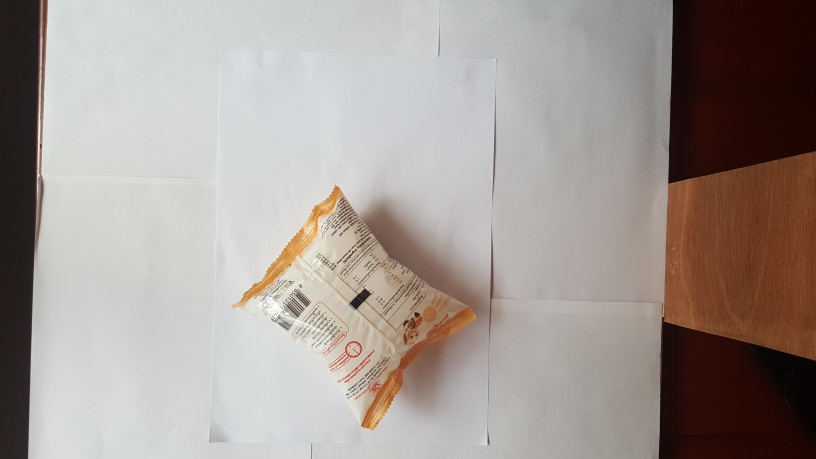farmhouse-sweetsandwich-almond: (225, 180, 482, 435)
